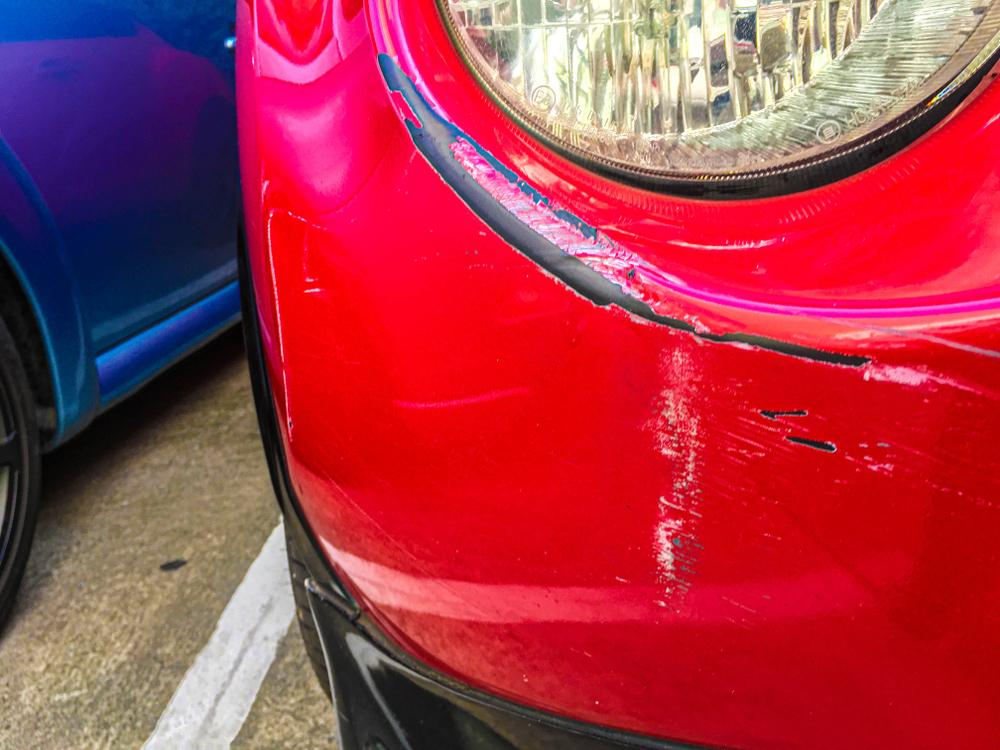scratch: (372, 40, 1000, 636), (257, 183, 305, 470)
